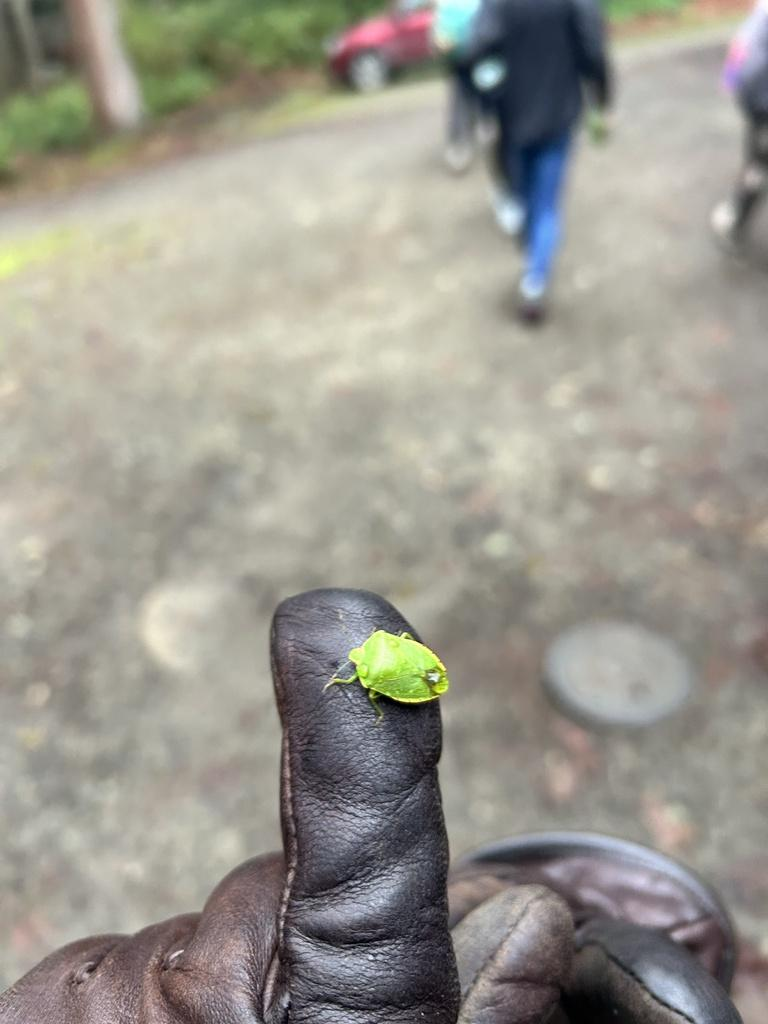stink_bugs: (304, 586, 482, 749)
